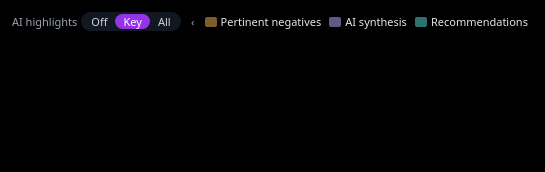
Test: Legend › the breakdown collapses and expands
The width and height of the screenshot is (545, 172).
Click the button named "AI highlights breakdown".
click(193, 22)  # box [185, 14, 201, 30]
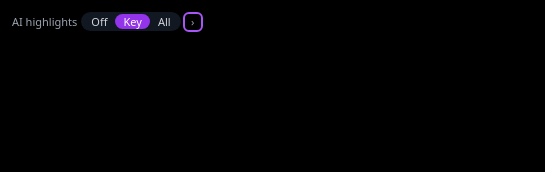
Now the button named "AI highlights breakdown" is collapsed
Click the button named "AI highlights breakdown".
click(193, 22)  # box [185, 14, 201, 30]
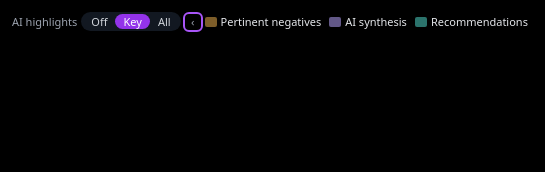
Now the list is shown, box [205, 14, 528, 29]
